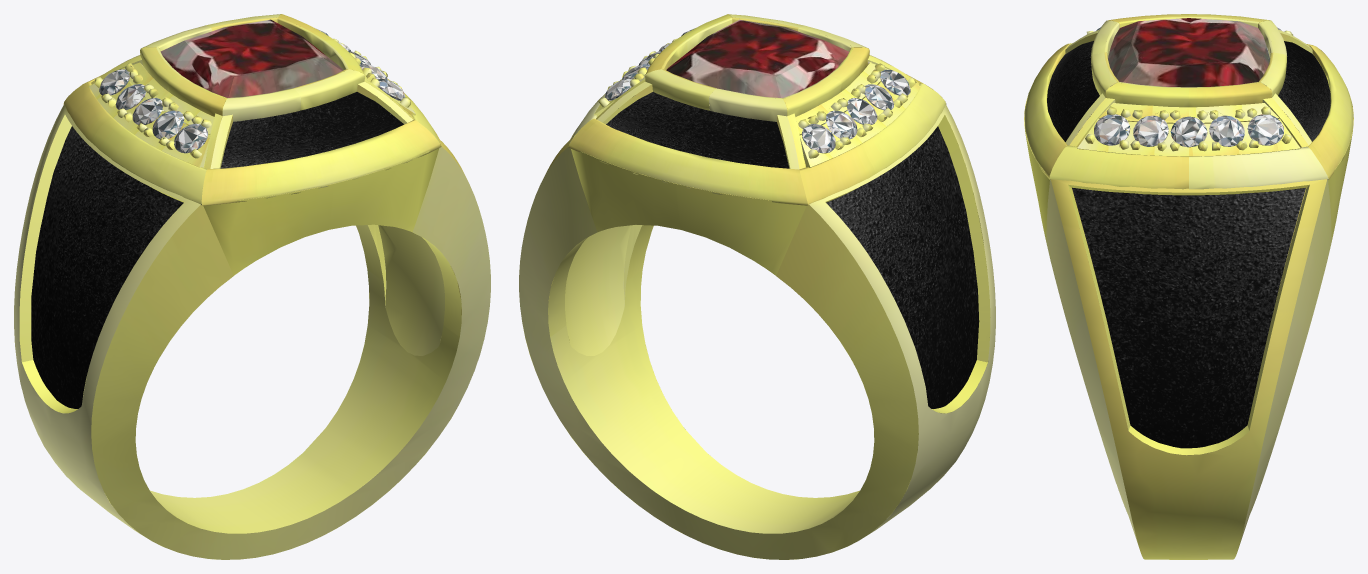
File: ring2-transformed.glb
3 renders of one model, left to right at view 1: azimuth 30°, elevation 25°; view 2: azimuth 150°, elevation 25°; view 3: azimuth 270°, elevation 25°, orthographic.
Visible parts, largest first — view 1: body, black, core, diamonds; view 2: body, black, core, diamonds; view 3: body, black, core, diamonds.
Part boxes in pixels (<box>): body: <box>14,14,490,559</box>; black: <box>31,92,403,408</box>; core: <box>160,19,343,97</box>; diamonds: <box>99,28,404,153</box>; body: <box>519,14,995,559</box>; black: <box>606,92,979,408</box>; core: <box>666,19,869,103</box>; diamonds: <box>604,28,910,153</box>; body: <box>1024,14,1353,559</box>; black: <box>1047,41,1330,448</box>; core: <box>1108,18,1272,89</box>; diamonds: <box>1094,27,1283,147</box>.
Bounding box in the file's own units: 26.19 × 30.46 × 18.36.
Materials: 4 (4 with a texture image).
